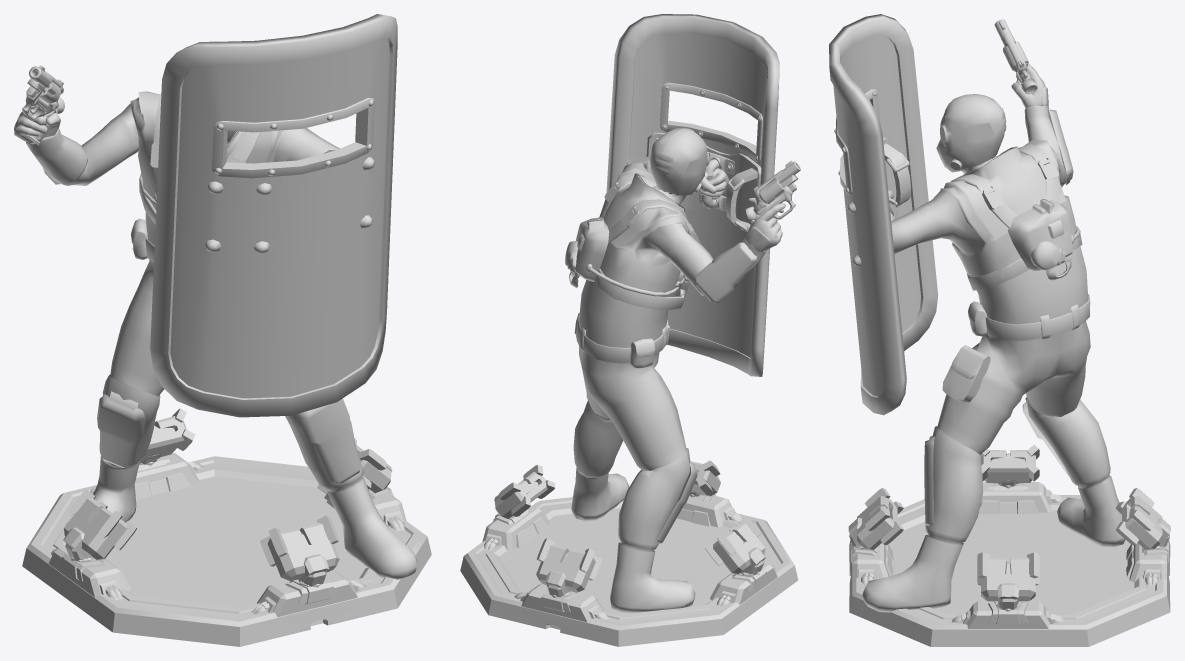
The model's file is ShieldBotSpawner.glb.
3 renders of one model, left to right at view 1: azimuth 30°, elevation 25°; view 2: azimuth 150°, elevation 25°; view 3: azimuth 270°, elevation 25°, orthographic. The views are drawn at different scales.
Visible parts, largest first — view 1: ShieldBotSpawnerHologram; view 2: ShieldBotSpawnerHologram; view 3: ShieldBotSpawnerHologram.
Part boxes in pixels (box(x1,y1,x2,y2)): ShieldBotSpawnerHologram: box(14, 14, 431, 646); ShieldBotSpawnerHologram: box(460, 14, 800, 646); ShieldBotSpawnerHologram: box(829, 14, 1170, 646).
Size of the model in its own units: 1.23 by 1.95 by 1.15.
Materials: 6 (4 with a texture image).
